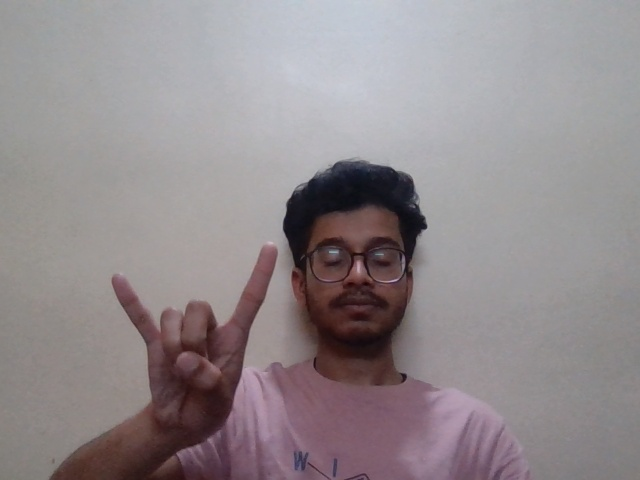i-love-you: (96, 243, 308, 451)
